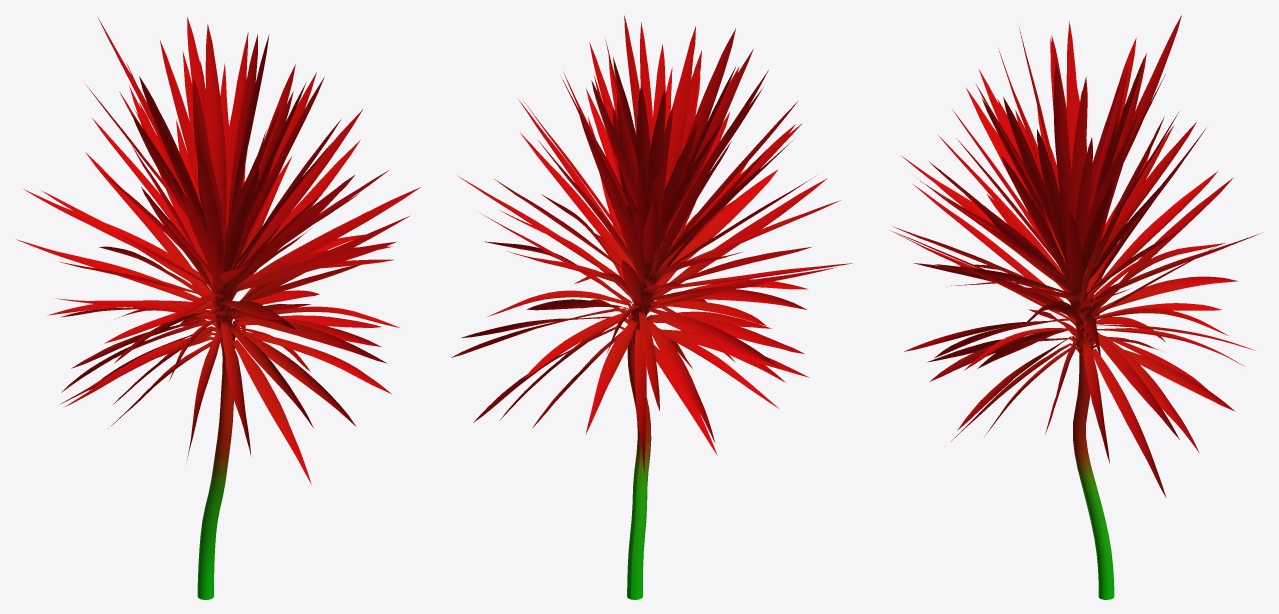
File: Var6_LOD2.fbx
The picture shows the model from 3 angles, left to right: view 1: azimuth 30°, elevation 25°; view 2: azimuth 150°, elevation 25°; view 3: azimuth 270°, elevation 25°; orthographic projection. The views are drawn at different scales.
Parts seen in each view (by area): view 1: _ue7l_Var6_LOD2; view 2: _ue7l_Var6_LOD2; view 3: _ue7l_Var6_LOD2.
Boxes of the visible parts, <box> form: _ue7l_Var6_LOD2: <box>16,16,420,599</box>; _ue7l_Var6_LOD2: <box>451,15,852,599</box>; _ue7l_Var6_LOD2: <box>890,15,1262,599</box>.
Bounding box in the file's own units: 117 × 178 × 112.
